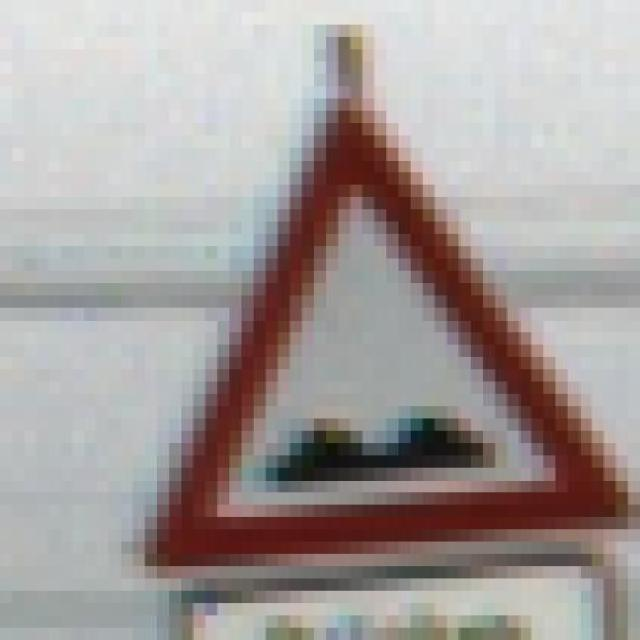Uneven Road: (121, 99, 628, 566)
